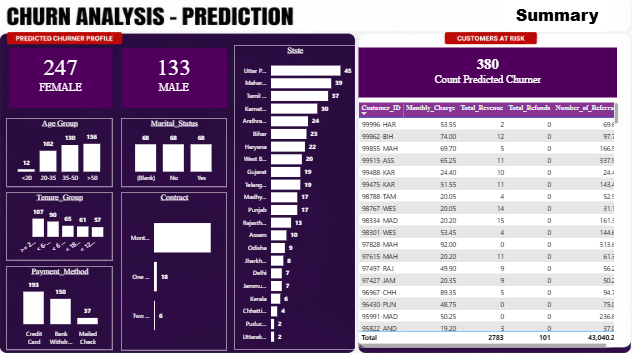

This screenshot's page, from the dashboard's own definition file:
{"tool":"powerbi","page":{"name":"Churn_Prediction","canvas":[1280,720],"ordinal":2},"visuals":[{"type":"cardVisual","title":"COUNT OF PREDICTED CHURNERS","fields":{"Data":["tbl_measures.Count Predicted Churner"]},"box":[722.3,95.7,527.5,110.9],"z":0},{"type":"tableEx","fields":{"Values":["Prediction (2).Customer_ID","Prediction (2).Monthly_Charge","Sum(Prediction (2).Number_of_Referrals)","Sum(Prediction (2).Total_Refunds)","Sum(Prediction (2).Total_Revenue)"]},"box":[721.7,206.7,530,500],"z":1000},{"type":"cardVisual","title":"FEMALE","fields":{"Data":["tbl_measures.Count Predicted Churner"]},"box":[28.3,101.7,206.7,120],"z":2000},{"type":"cardVisual","title":"MALE","fields":{"Data":["tbl_measures.Count Predicted Churner"]},"box":[251.7,101.7,211.7,120],"z":3000},{"type":"clusteredColumnChart","title":"Age Group","fields":{"Y":["CountNonNull(Prediction (2).Customer_ID)"],"Category":["mapping_age_grp.Age Group"]},"box":[21.7,241.7,213.3,138.3],"z":4000},{"type":"clusteredColumnChart","title":"Marital_Status","fields":{"Category":["Prediction (2).Married"],"Y":["CountNonNull(mapping_age_grp.Age Group)"]},"box":[251.7,241.7,211.7,138.3],"z":5000},{"type":"clusteredColumnChart","title":"Tenure_Group","fields":{"Y":["CountNonNull(Prediction (2).Customer_ID)"],"Category":["mapping_tenure_grp.tenure_grp"]},"box":[21.7,390,213.3,136.7],"z":6000},{"type":"clusteredColumnChart","title":"Payment_Method","fields":{"Y":["CountNonNull(Prediction (2).Customer_ID)"],"Category":["Prediction (2).Payment_Method"]},"box":[21.7,538.3,213.3,168.3],"z":7000},{"type":"clusteredBarChart","title":"Stste","fields":{"Category":["Prediction (2).State"],"Y":["CountNonNull(Prediction (2).Customer_ID)"]},"box":[478.7,95.7,243.6,609.8],"z":8000},{"type":"clusteredBarChart","title":"Contract","fields":{"Category":["Prediction (2).Contract"],"Y":["CountNonNull(Prediction (2).Customer_ID)"]},"box":[251.7,390,211.7,316.7],"z":9000},{"type":"shape","box":[1016.7,0,216.7,70],"z":10000}]}

Visuals, with their boxes in screenshot pixels (x1, y1, x2, y2), scaled from the page's 1280x720 canvas onto the 632x353 screenshot:
"COUNT OF PREDICTED CHURNERS" cardVisual: (357, 47, 617, 101)
tableEx - Prediction (2).Customer_ID x Prediction (2).Monthly_Charge: (356, 101, 618, 346)
"FEMALE" cardVisual: (14, 50, 116, 109)
"MALE" cardVisual: (124, 50, 229, 109)
"Age Group" clusteredColumnChart: (11, 119, 116, 186)
"Marital_Status" clusteredColumnChart: (124, 119, 229, 186)
"Tenure_Group" clusteredColumnChart: (11, 191, 116, 258)
"Payment_Method" clusteredColumnChart: (11, 264, 116, 346)
"Stste" clusteredBarChart: (236, 47, 357, 346)
"Contract" clusteredBarChart: (124, 191, 229, 346)
shape: (502, 0, 609, 34)
